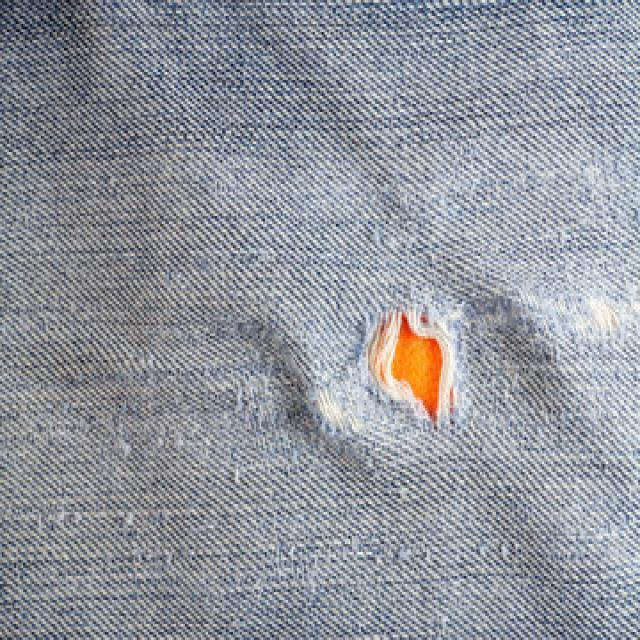Hole: (369, 313, 456, 428), (369, 313, 456, 426)
